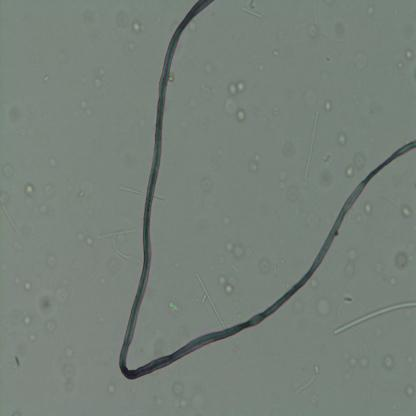Background material: (36, 290, 57, 317), (343, 350, 370, 370), (172, 381, 187, 411), (343, 248, 358, 278), (226, 239, 244, 259), (197, 82, 216, 100), (218, 274, 236, 293), (6, 104, 22, 125), (114, 7, 129, 29), (63, 362, 74, 392), (190, 390, 204, 413), (246, 152, 261, 173), (76, 230, 94, 247), (78, 99, 94, 118), (350, 149, 365, 169), (333, 20, 347, 41), (56, 287, 72, 305), (396, 251, 412, 268), (228, 80, 246, 95), (21, 183, 35, 201), (41, 181, 55, 199), (318, 170, 332, 188), (94, 67, 104, 92), (132, 19, 146, 36), (354, 51, 367, 69), (315, 299, 329, 315), (293, 298, 305, 316), (382, 354, 394, 371), (62, 345, 76, 359), (1, 163, 14, 178), (403, 383, 416, 398), (169, 301, 181, 317), (335, 130, 347, 146), (287, 186, 299, 202), (260, 259, 272, 275), (400, 204, 413, 218), (344, 163, 356, 178), (202, 176, 212, 194), (224, 97, 236, 112), (235, 108, 247, 122), (105, 382, 117, 396), (45, 320, 58, 332), (283, 144, 294, 158), (308, 23, 318, 38), (340, 292, 352, 304), (253, 61, 266, 72), (404, 46, 414, 60), (22, 313, 32, 327), (279, 171, 287, 188), (48, 155, 57, 170), (362, 201, 372, 214), (324, 99, 334, 112), (322, 153, 333, 164), (38, 203, 48, 215), (28, 330, 38, 342), (188, 20, 197, 33), (312, 362, 322, 373), (125, 40, 135, 51), (222, 215, 232, 226), (154, 394, 164, 405), (310, 278, 319, 290), (48, 256, 56, 269), (389, 276, 397, 289), (405, 353, 414, 363), (272, 105, 280, 116), (14, 352, 20, 366), (99, 276, 106, 288), (74, 190, 84, 198), (24, 282, 32, 291), (367, 6, 374, 16), (396, 61, 404, 69), (42, 73, 49, 82), (271, 50, 280, 57), (12, 410, 22, 416), (169, 72, 174, 82), (217, 256, 224, 263), (174, 261, 180, 269), (325, 56, 331, 62)
Cotton: (118, 2, 416, 379)
Glass filter fibre: (334, 300, 416, 336), (195, 272, 226, 332), (305, 110, 319, 181), (113, 236, 141, 264), (0, 201, 20, 234), (311, 0, 327, 36), (97, 227, 137, 241), (296, 372, 316, 397), (116, 184, 147, 199), (242, 6, 262, 18), (228, 336, 236, 347)
